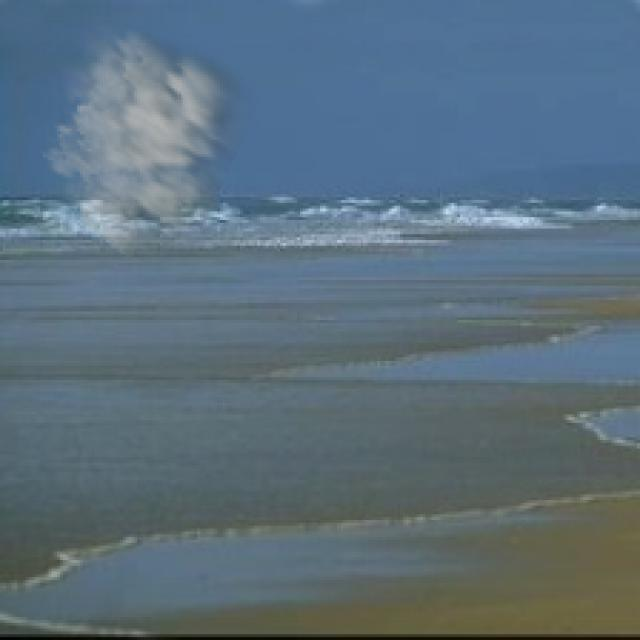Smoke: (40, 20, 260, 266)
